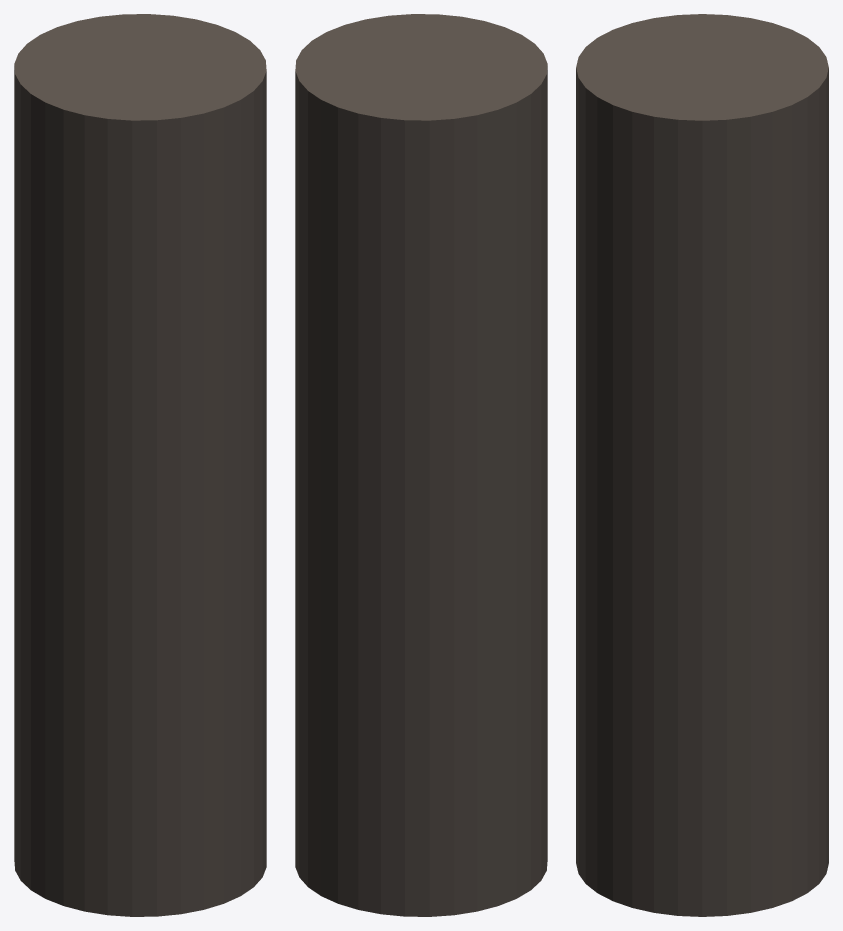
The model's file is log.fbx.
3 views of the same model, side by side, from view 1: azimuth 30°, elevation 25°; view 2: azimuth 150°, elevation 25°; view 3: azimuth 270°, elevation 25° (orthographic).
Parts seen in each view (by area): view 1: Cylinder; view 2: Cylinder; view 3: Cylinder.
Part boxes in pixels (x1=…): Cylinder: x1=14, y1=14, x2=266, y2=916; Cylinder: x1=295, y1=14, x2=547, y2=916; Cylinder: x1=576, y1=14, x2=828, y2=916.
Bounding box in the file's own units: 0.1269 × 0.4411 × 0.1269.
